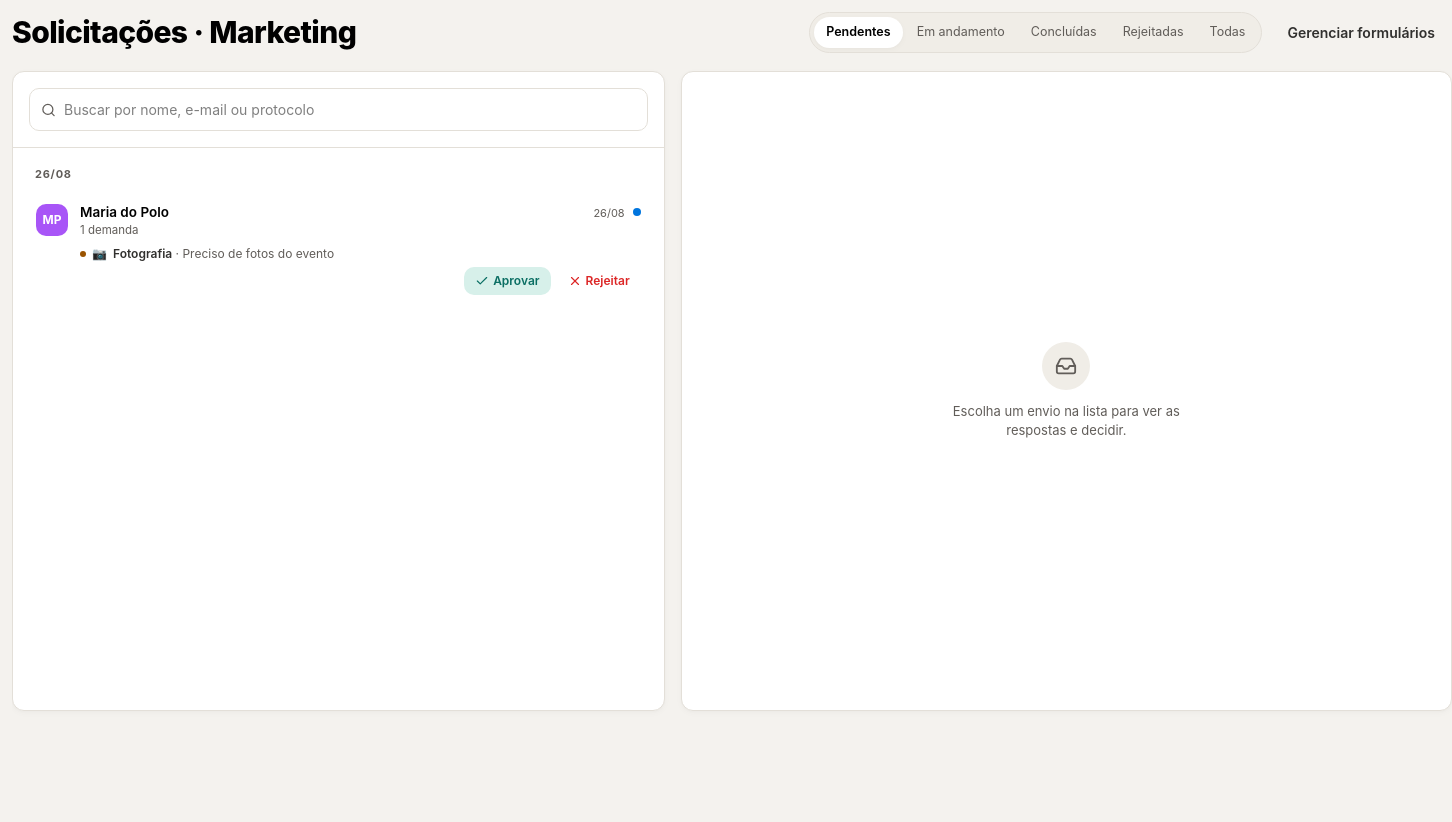
Test: a categoria vem do BANCO, e não de um arquivo do front › o prazo da seção aparece quando existe
Click the text "Maria do Polo". click: (124,212)
box: [80, 204, 169, 220]
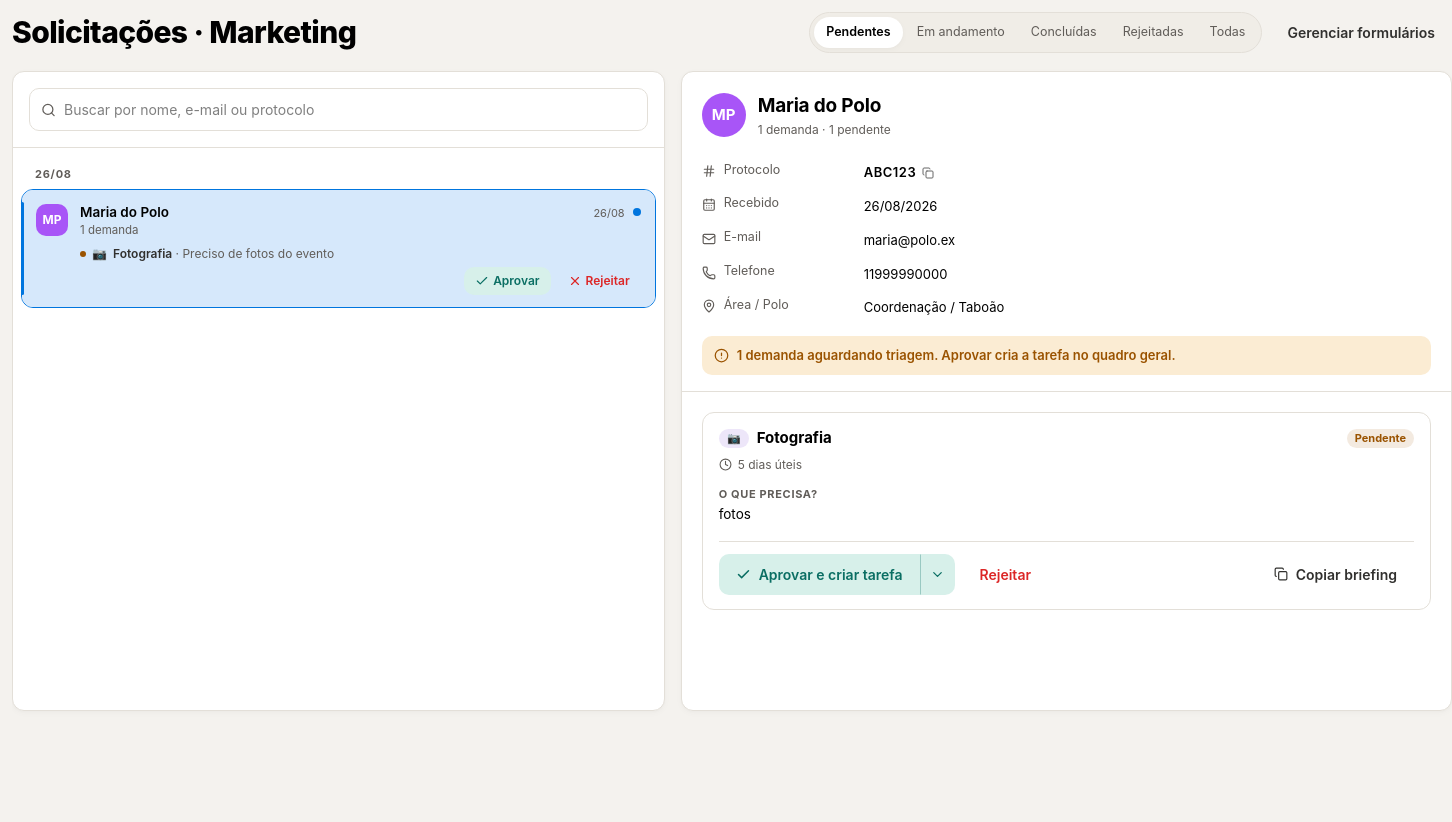
Now the text "5 dias úteis" is shown, box [719, 457, 802, 472]
